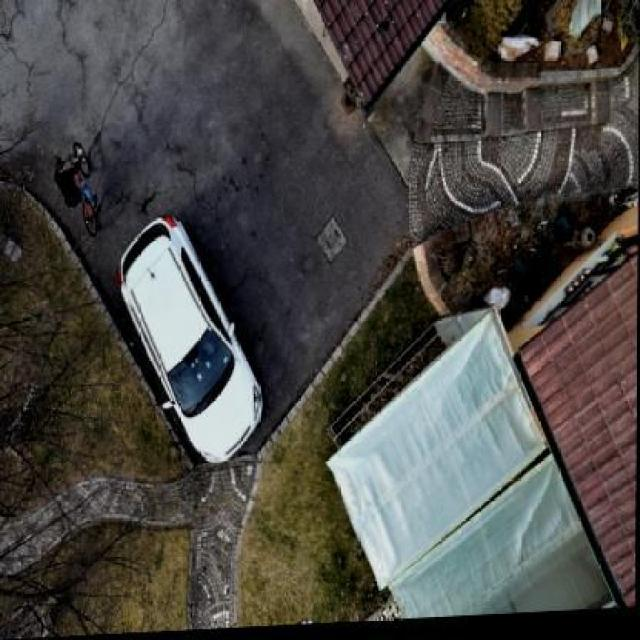Person: (43, 148, 86, 220)
